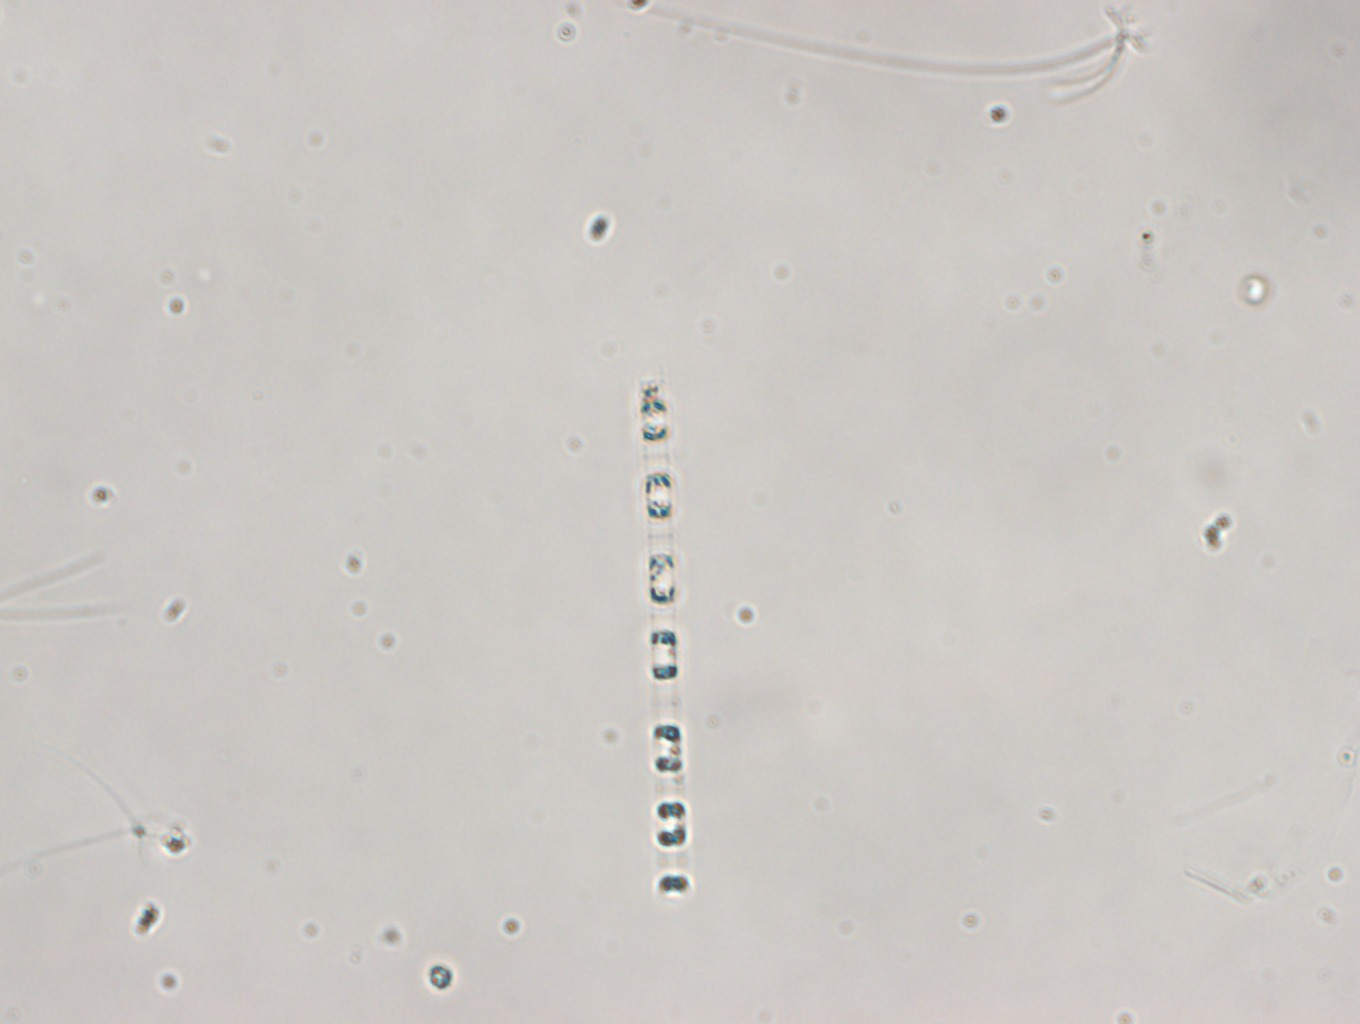skeletonema: (635, 376, 692, 896)
